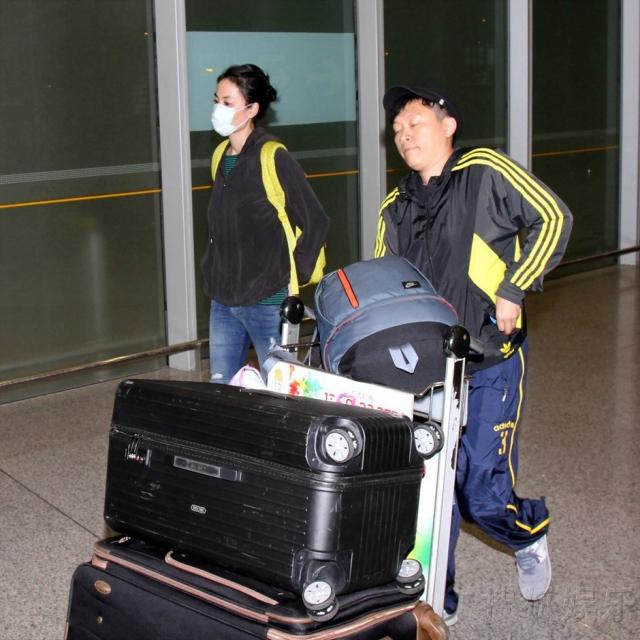mask: (212, 81, 246, 131)
nomask: (393, 98, 442, 169)
